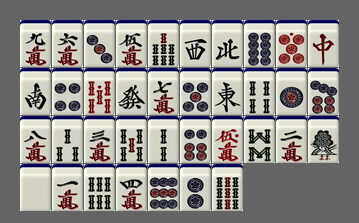0m: (212, 116, 243, 163)
0p: (276, 20, 307, 67)
0s: (84, 68, 115, 115)
1m: (52, 164, 83, 211)
1p: (276, 68, 307, 115)
1s: (308, 116, 339, 163)
1z: (212, 68, 243, 115)
2m: (276, 116, 307, 163)
2p: (180, 164, 211, 211)
2s: (148, 116, 179, 163)
2z: (20, 68, 51, 115)
3m: (84, 116, 115, 163)
3p: (84, 20, 115, 67)
3s: (52, 116, 83, 163)
3z: (180, 20, 211, 67)
4m: (116, 164, 147, 211)
4p: (52, 68, 83, 115)
4s: (244, 68, 275, 115)
4z: (212, 20, 243, 67)
5m: (116, 20, 147, 67)
5p: (180, 68, 211, 115)
5s: (116, 116, 147, 163)
5z: (20, 164, 51, 211)
6m: (52, 20, 83, 67)
6p: (180, 116, 211, 163)
6s: (84, 164, 115, 211)
6z: (116, 68, 147, 115)
7m: (148, 68, 179, 115)
7p: (308, 68, 339, 115)
7s: (148, 20, 179, 67)
7z: (308, 20, 339, 67)
8m: (20, 116, 51, 163)
8p: (244, 20, 275, 67)
8s: (244, 116, 275, 163)
9m: (20, 20, 51, 67)
9p: (148, 164, 179, 211)
9s: (212, 164, 243, 211)
